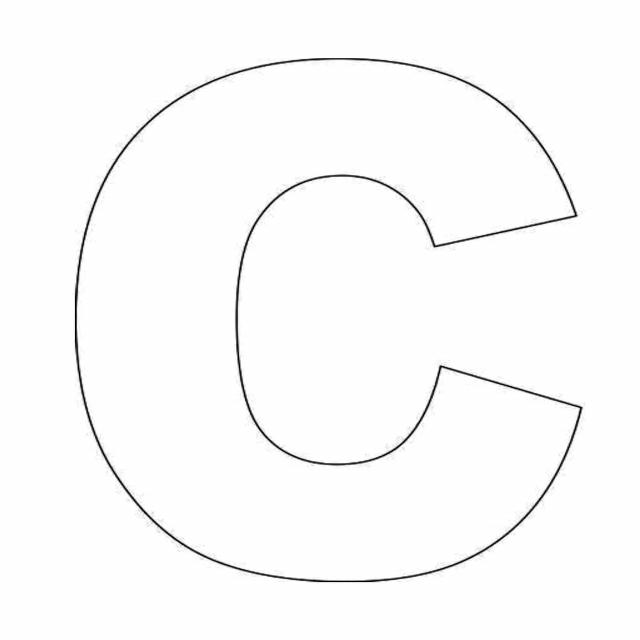C: (59, 22, 600, 610)
